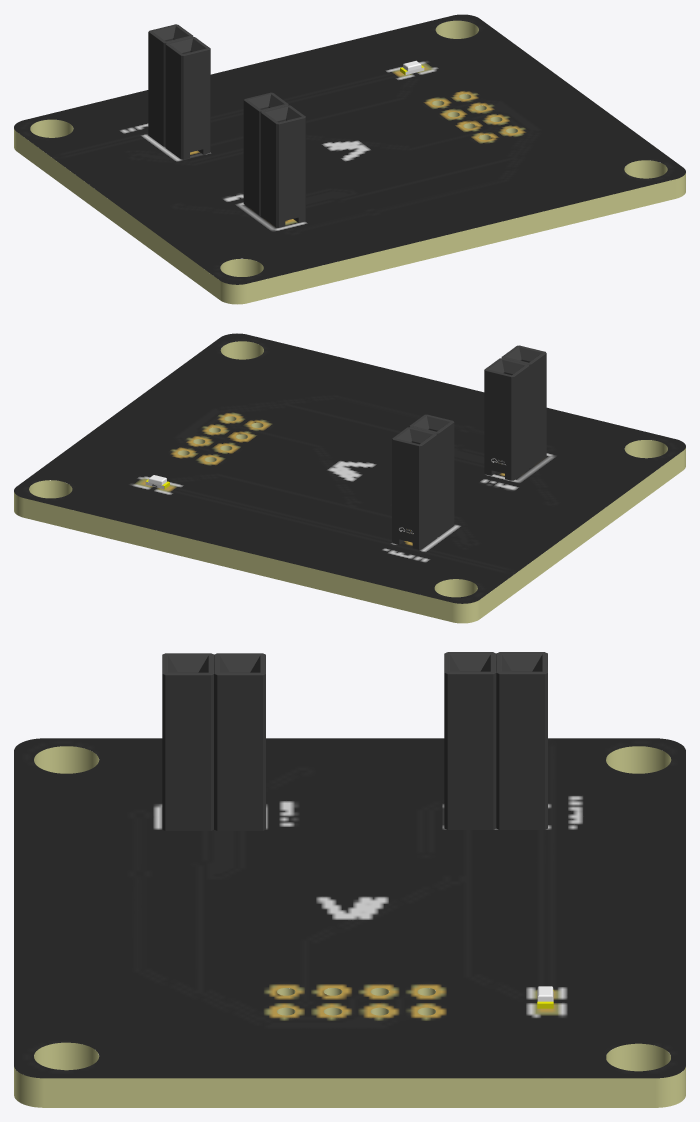
File: motor.glb
The picture shows the model from 3 angles, top to bottom: view 1: azimuth 30°, elevation 25°; view 2: azimuth 150°, elevation 25°; view 3: azimuth 270°, elevation 25°; orthographic projection. The views are drawn at different scales.
Bounding box in the file's own units: 0.0395 × 0.0119 × 0.033.
Materials: 20 (1 with a texture image).
